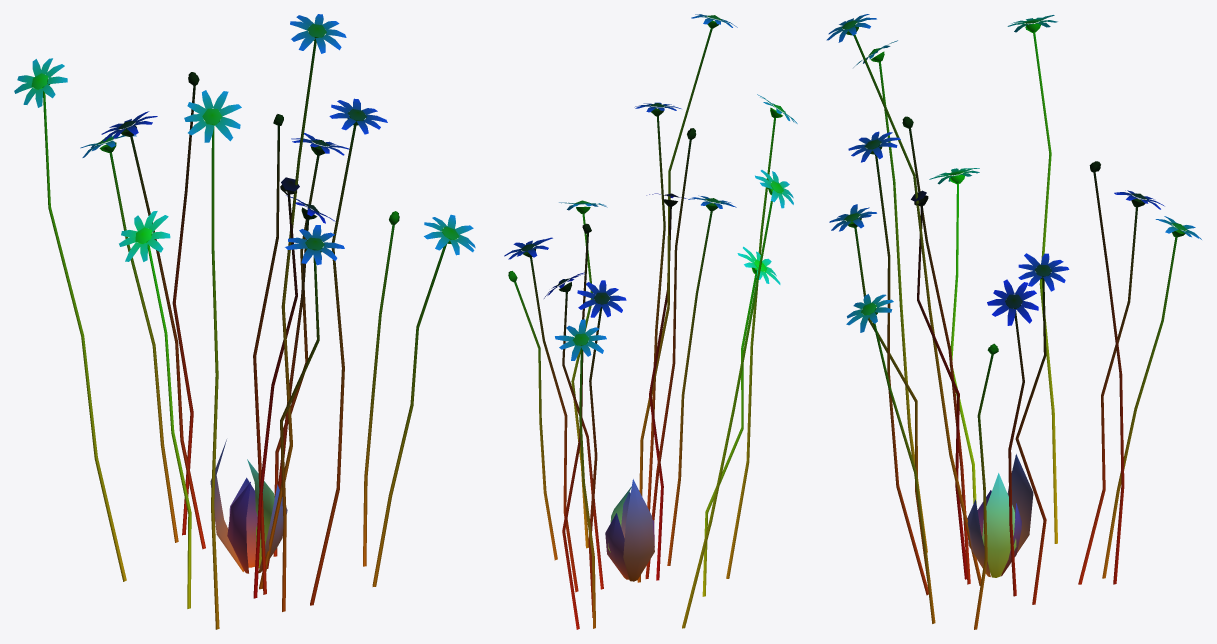
File: SM_Flower_Daisy_C_LOD2.fbx
3 renders of one model, left to right at view 1: azimuth 30°, elevation 25°; view 2: azimuth 150°, elevation 25°; view 3: azimuth 270°, elevation 25°, orthographic. The views are drawn at different scales.
Visible parts, largest first — view 1: SM_Flower_Daisy_C_LOD2; view 2: SM_Flower_Daisy_C_LOD2; view 3: SM_Flower_Daisy_C_LOD2.
Boxes of the visible parts, x1,y1,x2,y2 form: SM_Flower_Daisy_C_LOD2: (14,14,475,629); SM_Flower_Daisy_C_LOD2: (504,14,797,629); SM_Flower_Daisy_C_LOD2: (826,14,1201,629).
Bounding box in the file's own units: 0.3749 × 0.6109 × 0.3731.
